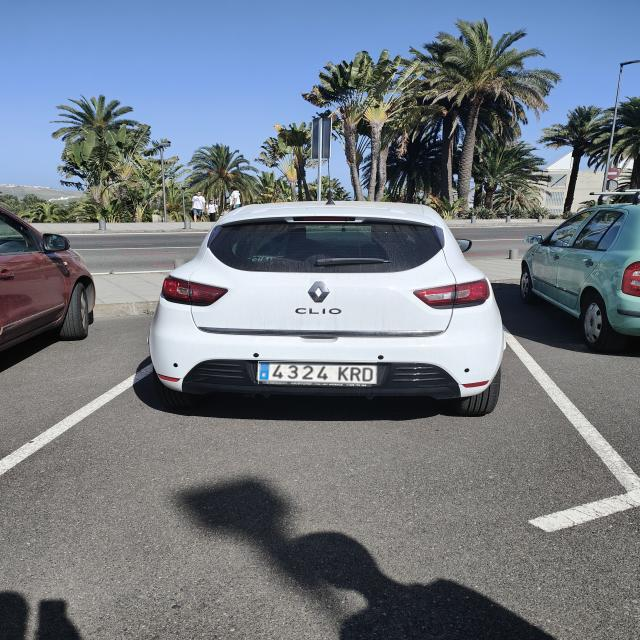License-Plate: (258, 361, 377, 384)
